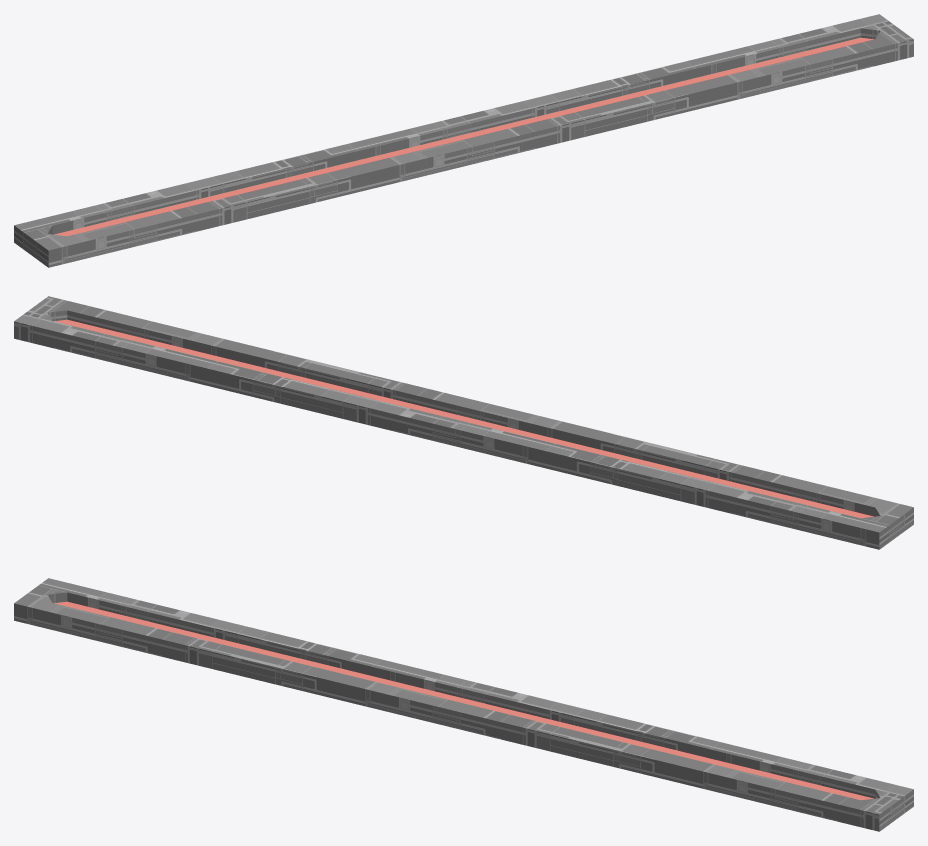
Rendered from SM_lamp_long.glb.
3 views of the same model, one above another, from view 1: azimuth 30°, elevation 25°; view 2: azimuth 150°, elevation 25°; view 3: azimuth 330°, elevation 25° (orthographic).
Visible parts, largest first — view 1: SM_lamp_long; view 2: SM_lamp_long; view 3: SM_lamp_long.
Boxes of the visible parts, left/top/right/bottom form: SM_lamp_long: left=14, top=14, right=913, bottom=267; SM_lamp_long: left=14, top=296, right=913, bottom=549; SM_lamp_long: left=14, top=578, right=913, bottom=831.
Size of the model in its own units: 5.12 by 0.0978 by 0.354.
Materials: 2 (1 with a texture image).
